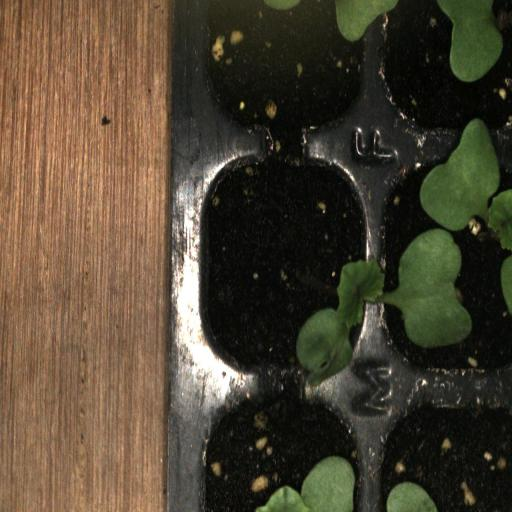Folha: (255, 455, 355, 512), (437, 0, 503, 82), (305, 0, 398, 43), (176, 0, 208, 64)
Germinacao: (190, 149, 376, 387), (376, 150, 512, 386)
